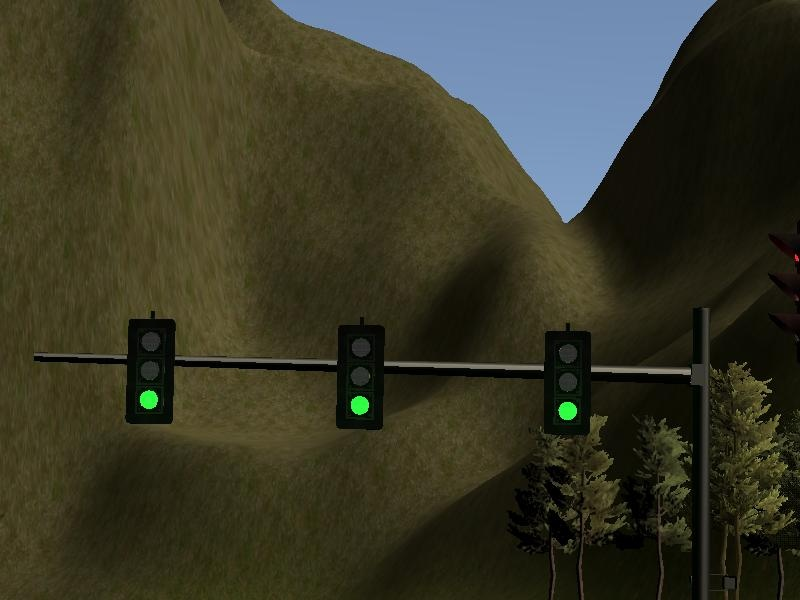traffic_light_green: (30, 312, 628, 437)
